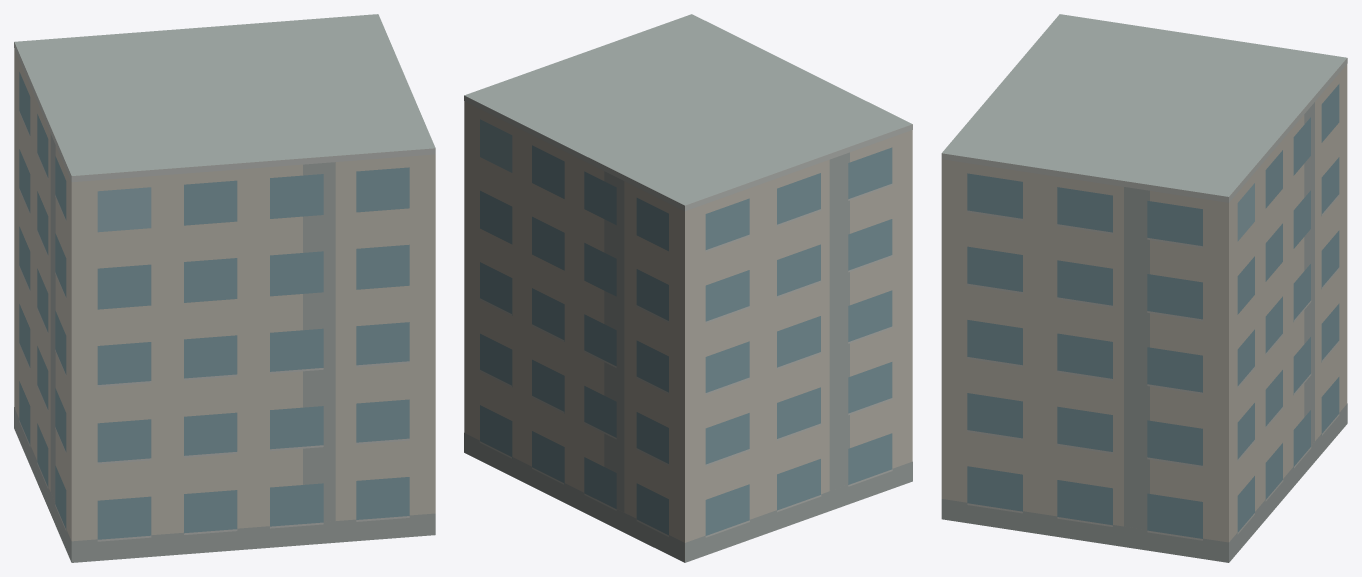
The model's file is residential-48468f4f-544e-4671-ad01-f98e2359988e.glb.
The picture shows the model from 3 angles, left to right: view 1: azimuth 30°, elevation 25°; view 2: azimuth 150°, elevation 25°; view 3: azimuth 270°, elevation 25°; orthographic projection. The views are drawn at different scales.
Visible parts, largest first — view 1: residential-48468f4f-544e-4671-ad01-f98e2359988e.tmp; view 2: residential-48468f4f-544e-4671-ad01-f98e2359988e.tmp; view 3: residential-48468f4f-544e-4671-ad01-f98e2359988e.tmp.
Boxes of the visible parts, x1=… form: residential-48468f4f-544e-4671-ad01-f98e2359988e.tmp: x1=14, y1=14, x2=435, y2=562; residential-48468f4f-544e-4671-ad01-f98e2359988e.tmp: x1=464, y1=14, x2=912, y2=562; residential-48468f4f-544e-4671-ad01-f98e2359988e.tmp: x1=941, y1=14, x2=1347, y2=562.
Size of the model in its own units: 16.36 by 15.25 by 15.34.
